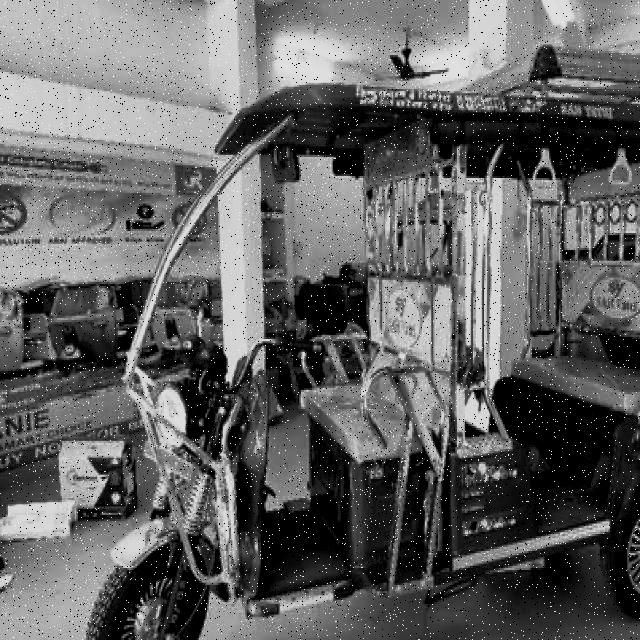Toto: (86, 76, 640, 640)
